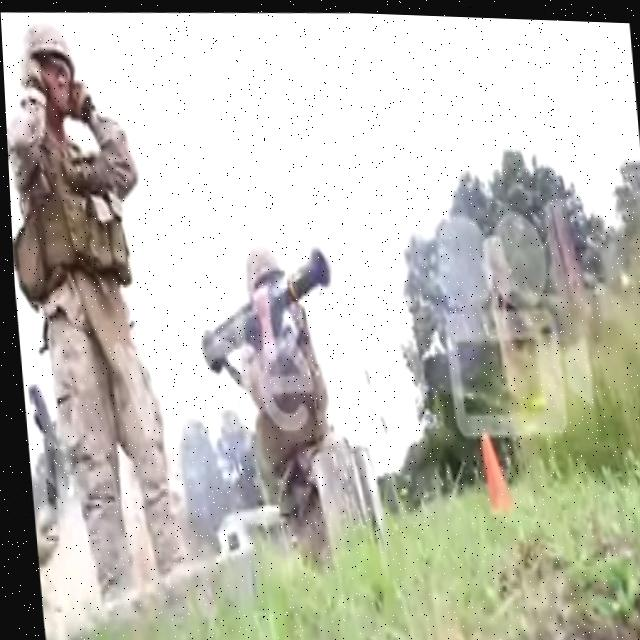rocket: (186, 241, 333, 380)
